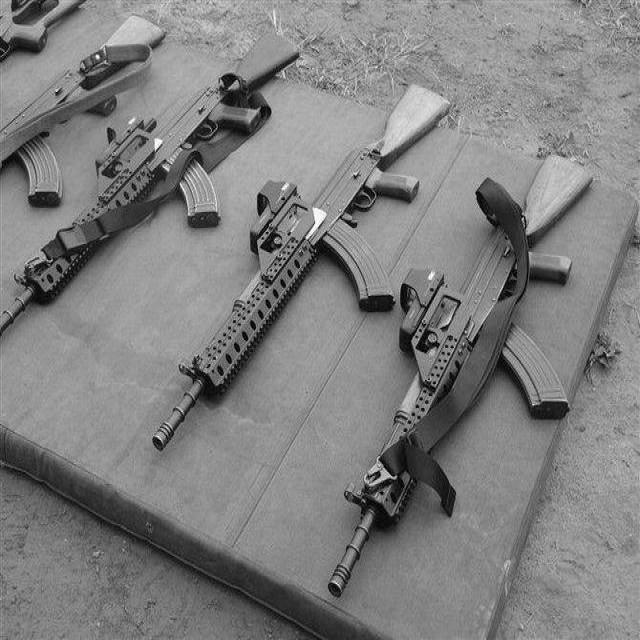gun: (326, 139, 591, 597), (151, 81, 450, 452), (0, 30, 300, 338), (0, 13, 166, 207)
